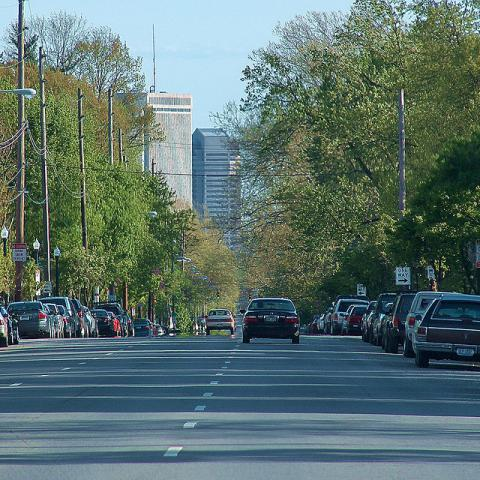car: (0, 287, 406, 347), (402, 290, 476, 358), (413, 296, 479, 370), (240, 299, 304, 344), (382, 293, 416, 353), (6, 302, 58, 338), (38, 296, 82, 336), (371, 301, 393, 346), (340, 304, 368, 336), (204, 308, 236, 335), (56, 304, 77, 339), (90, 309, 115, 337), (131, 318, 154, 338)
truck: (330, 295, 369, 335)
